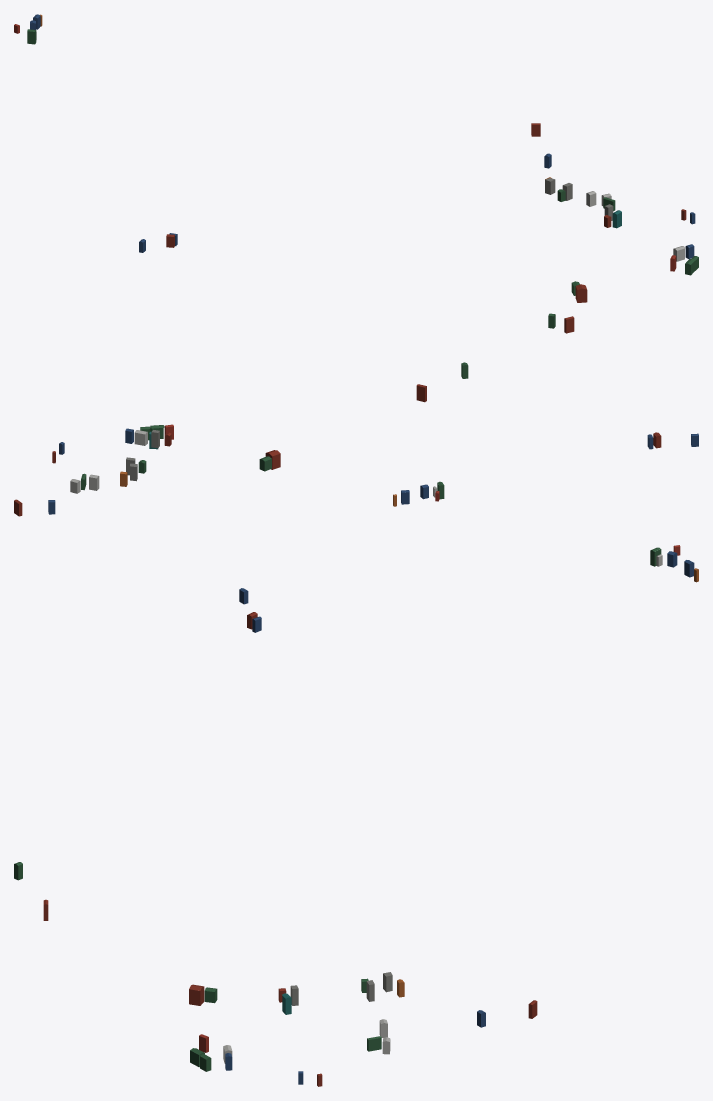
File: near-15-27366-14881.601bbd02.glb
The picture shows the model from 3 angles, top to bottom: view 1: azimuth 30°, elevation 25°; view 2: azimuth 150°, elevation 25°; view 3: azimuth 270°, elevation 25°; orthographic projection. The views are drawn at different scales.
Bounding box in the file's own units: 1033 × 367 × 901.
